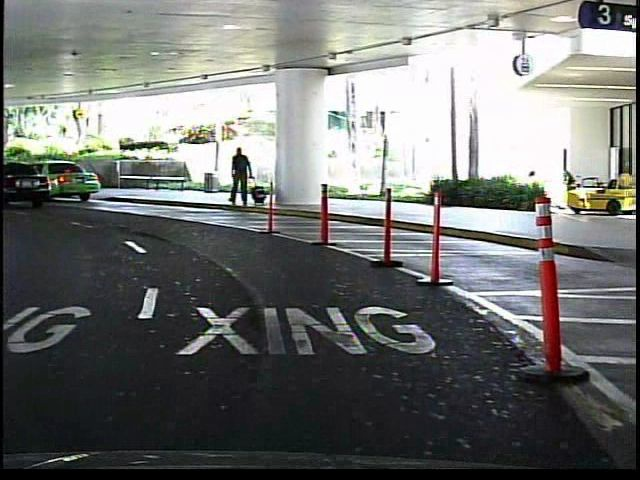person: (225, 143, 255, 212)
